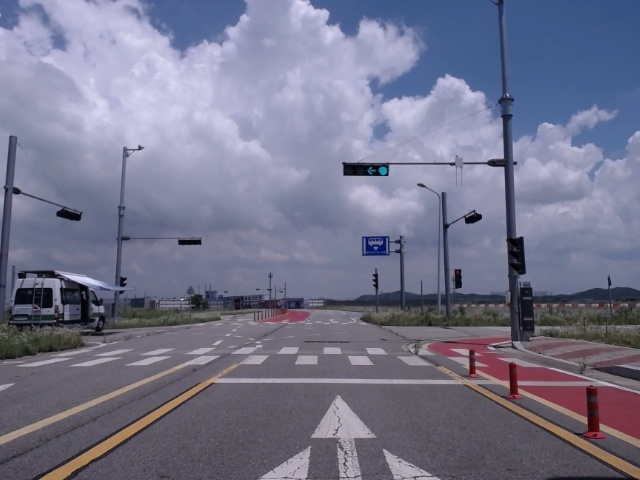all_green_4: (343, 161, 392, 175)
